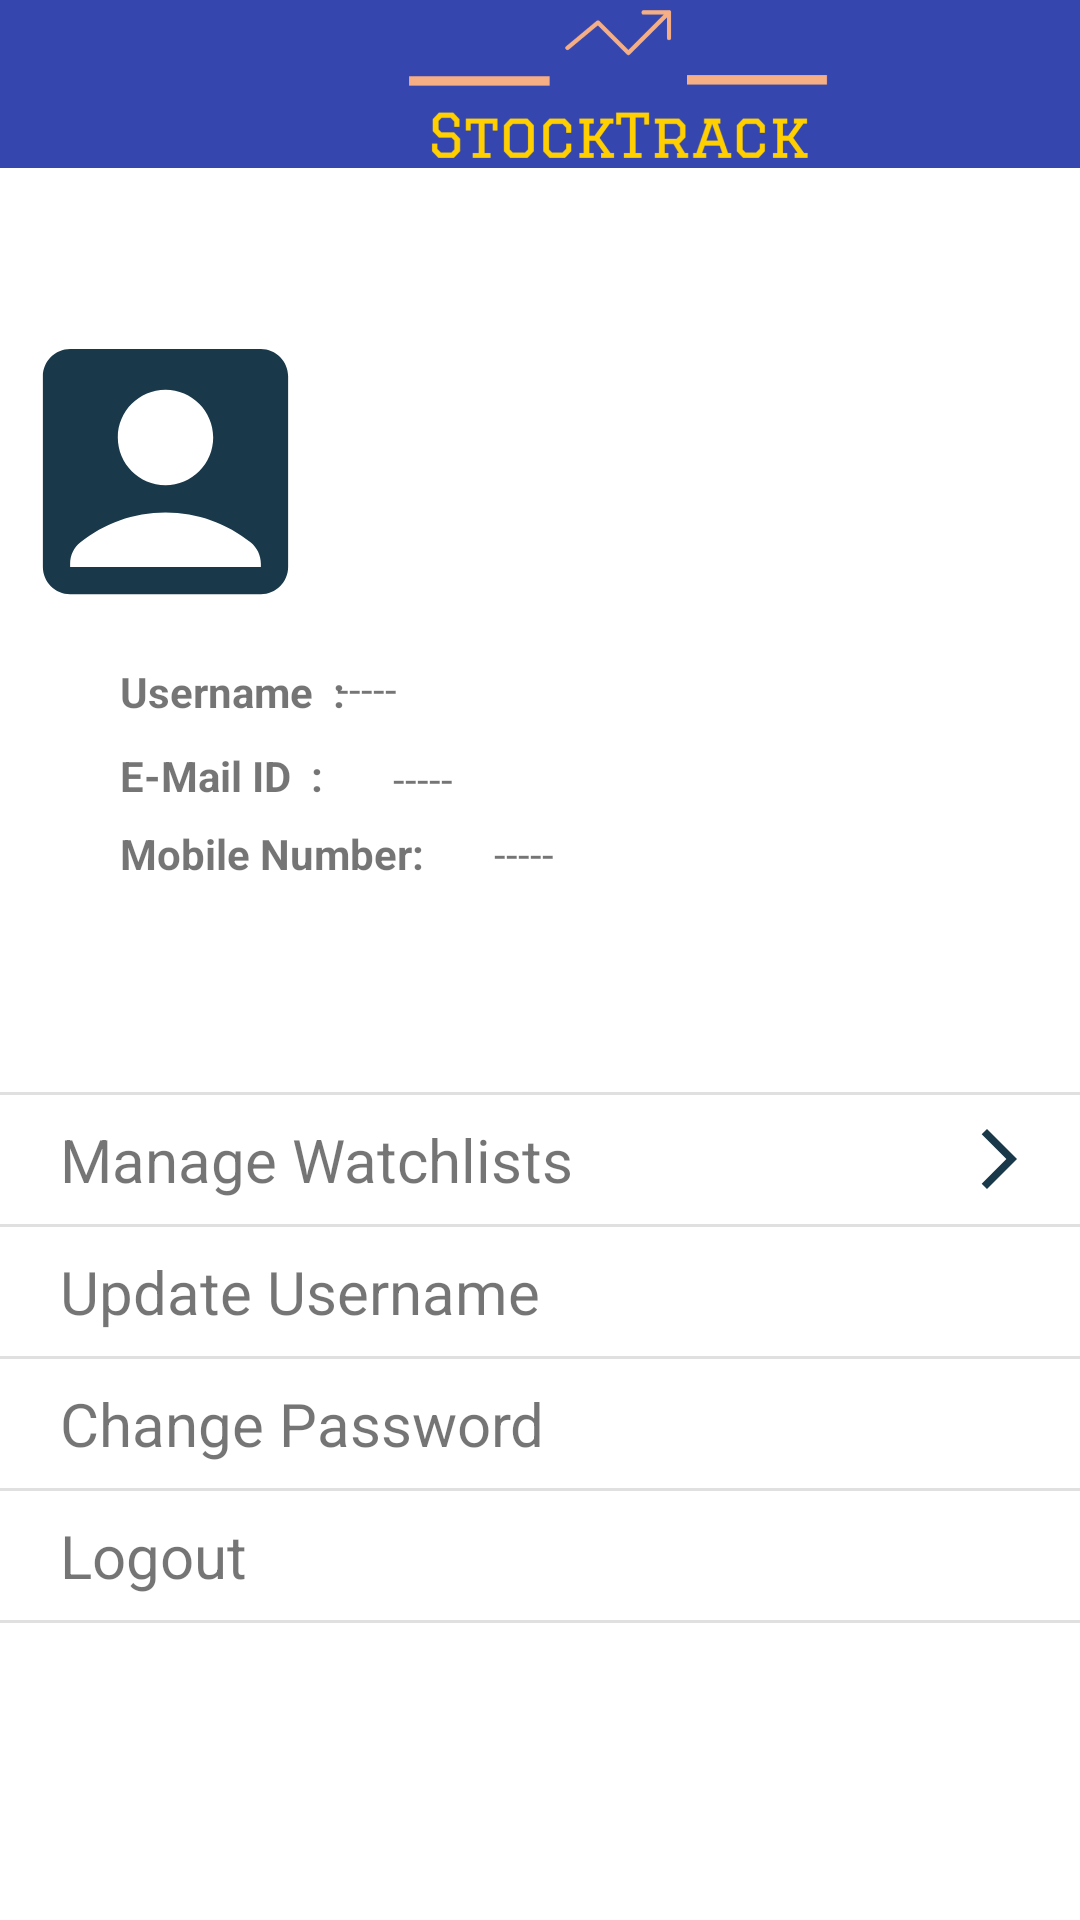

Icons on this 1080px x 1920px Android screen, each with the point to tap as (x=x, y=y):
account box: (x=165, y=472)
